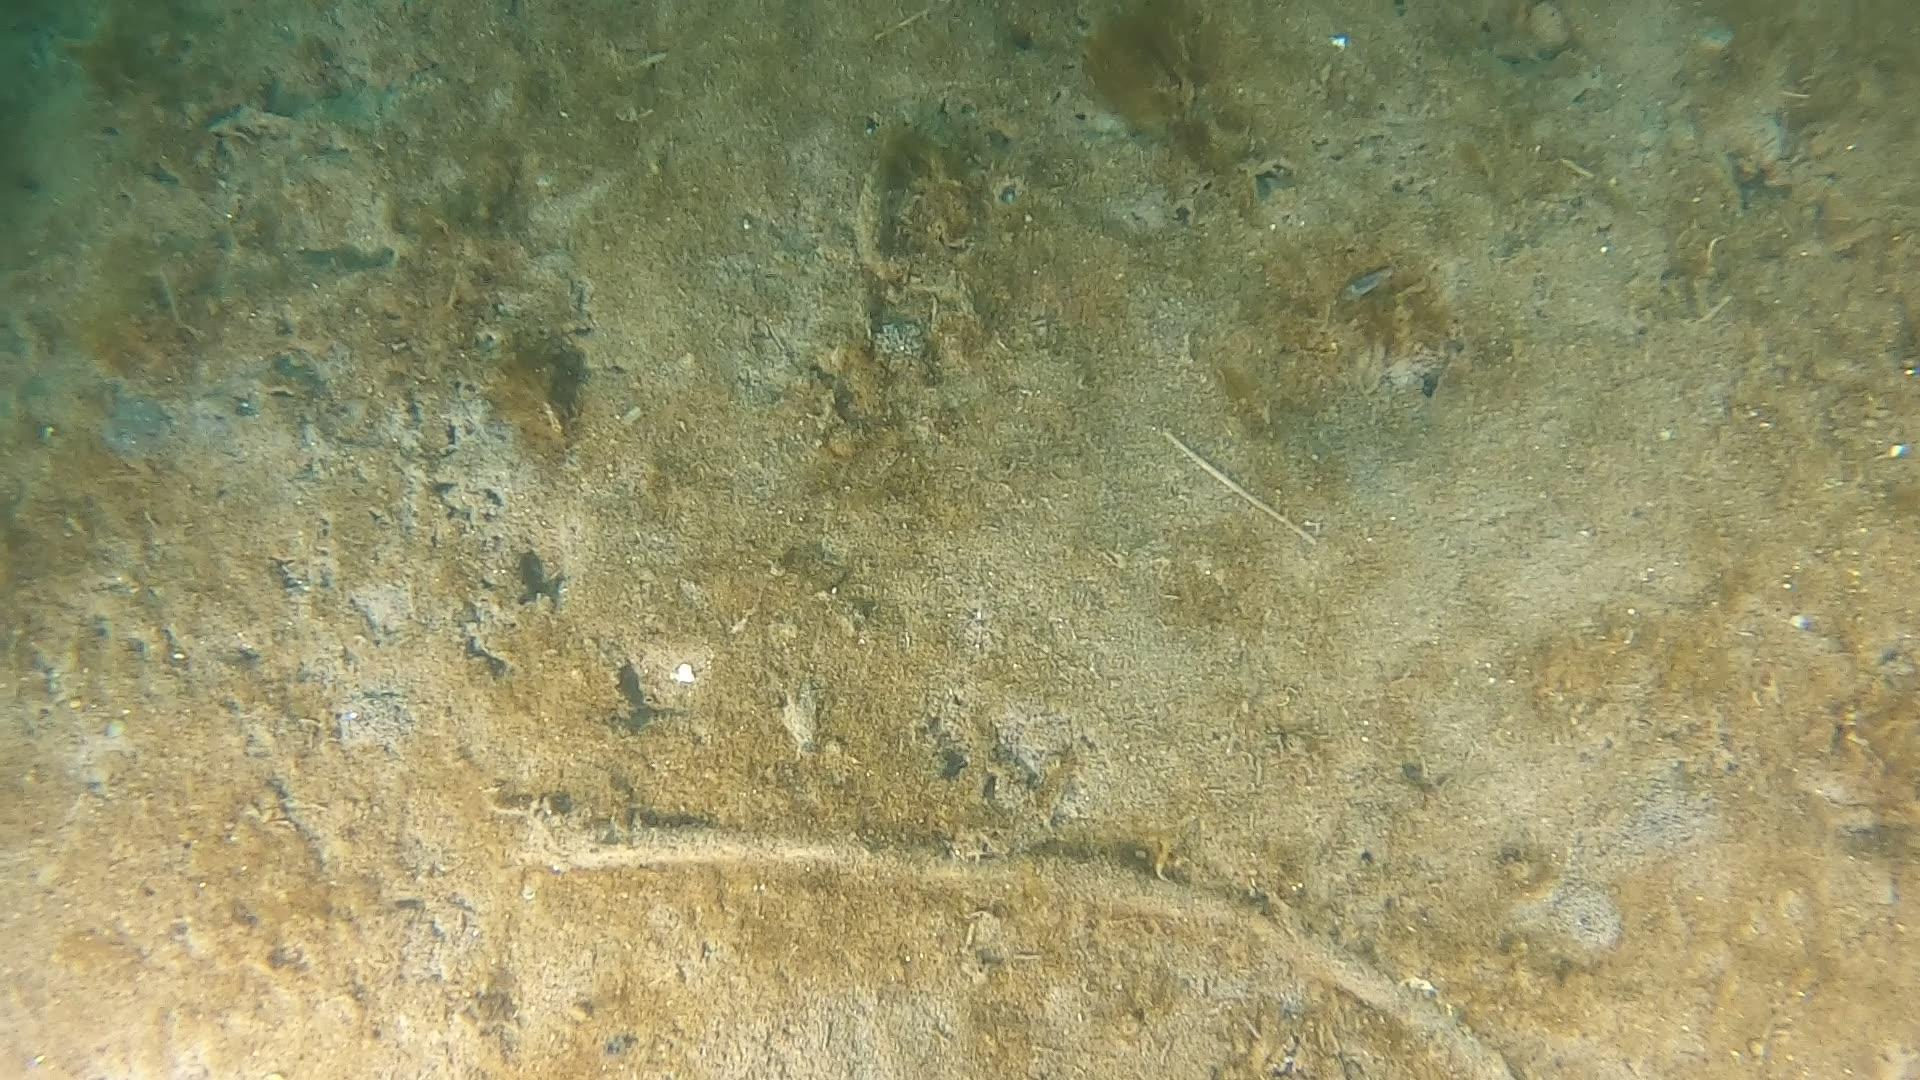wood: (488, 790, 1516, 1080)
